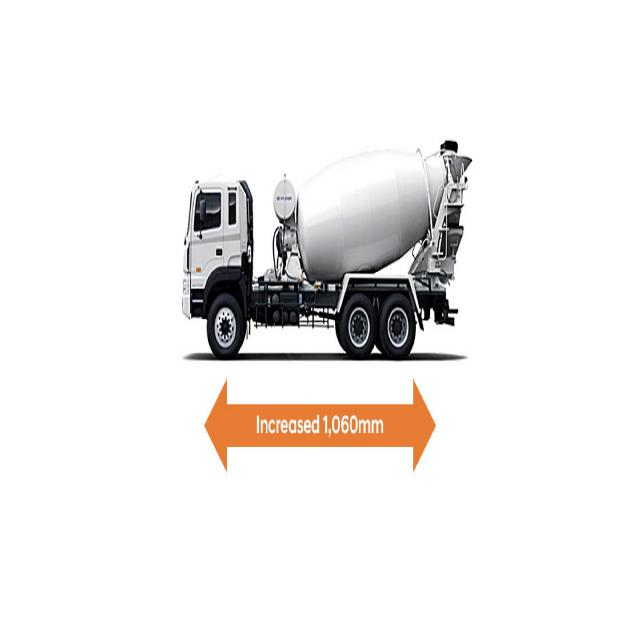Mixer Truck: (181, 138, 472, 358)
